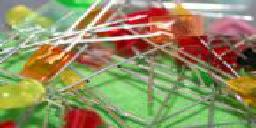LED: (20, 43, 74, 83), (1, 79, 47, 116), (60, 103, 107, 128), (231, 73, 256, 104)
